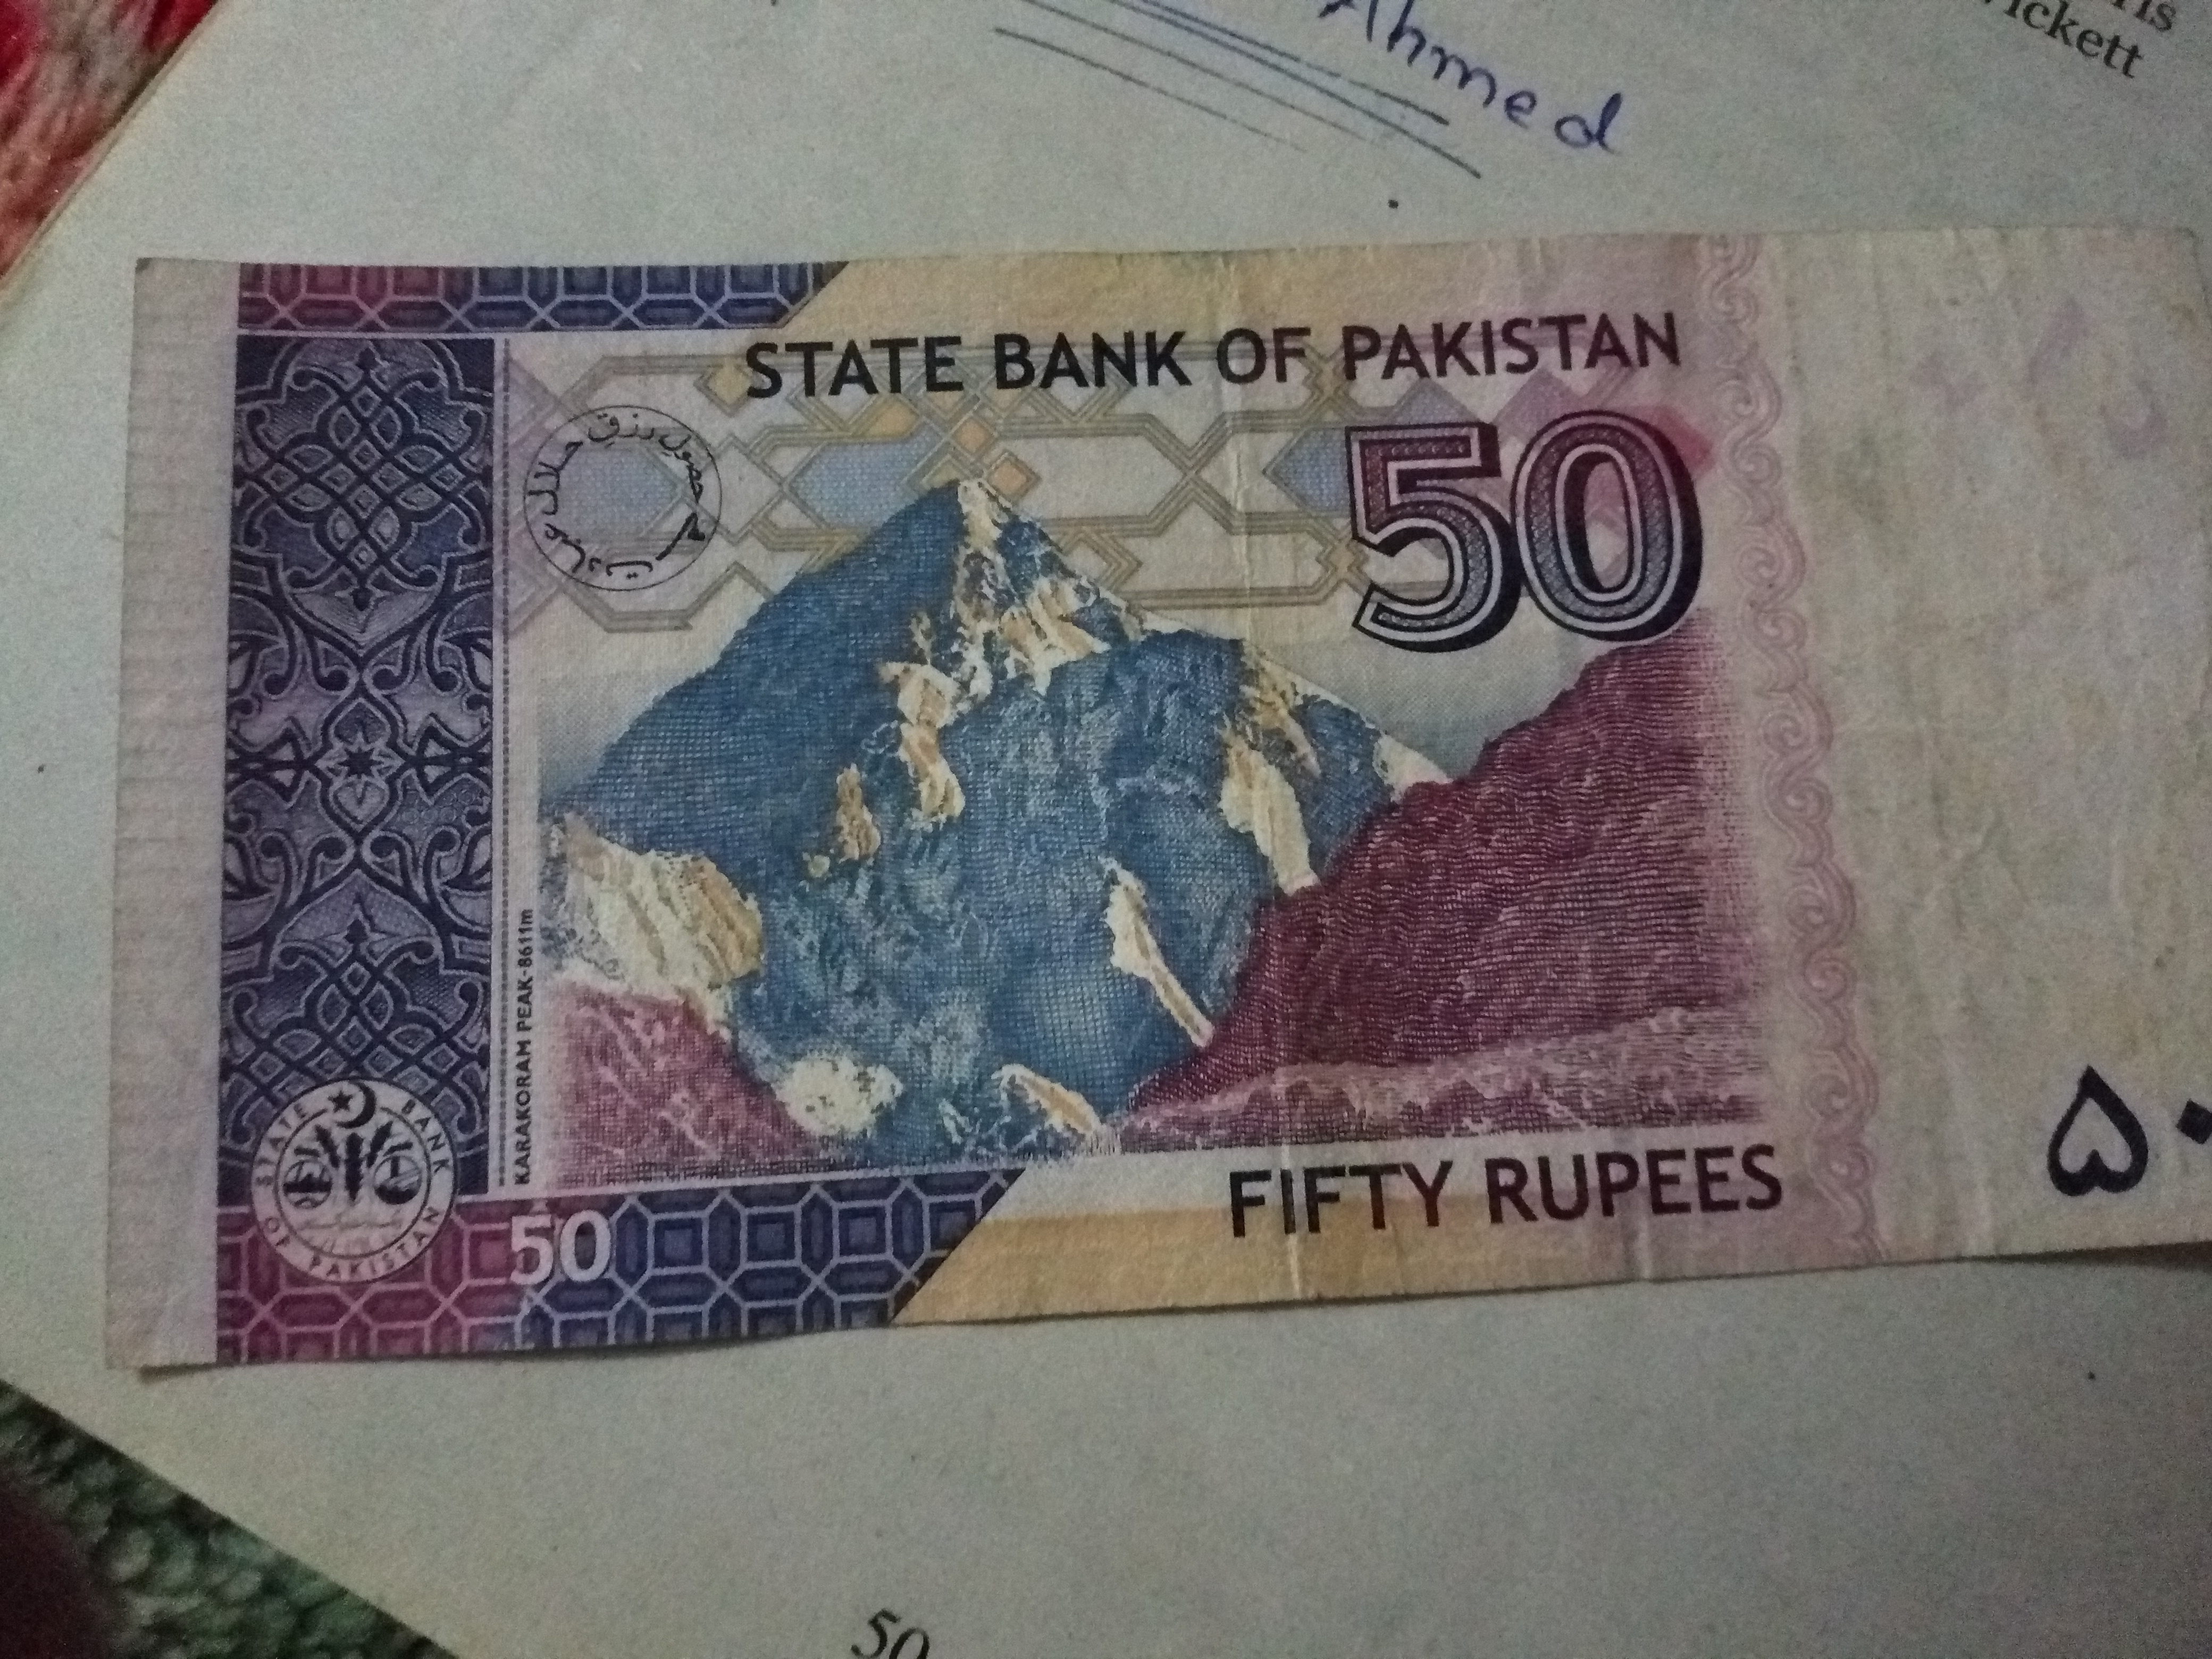50 rupee: (78, 138, 2179, 1455)
